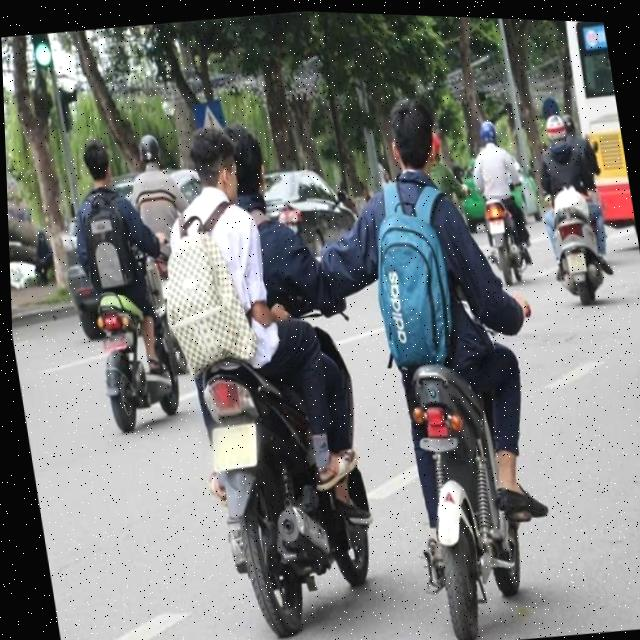car: (557, 21, 639, 252)
motorcycle: (177, 330, 374, 640), (386, 336, 554, 638), (76, 271, 189, 439), (543, 188, 620, 317), (474, 187, 539, 294)
plate: (203, 414, 270, 479), (561, 248, 593, 279), (484, 215, 510, 239)
